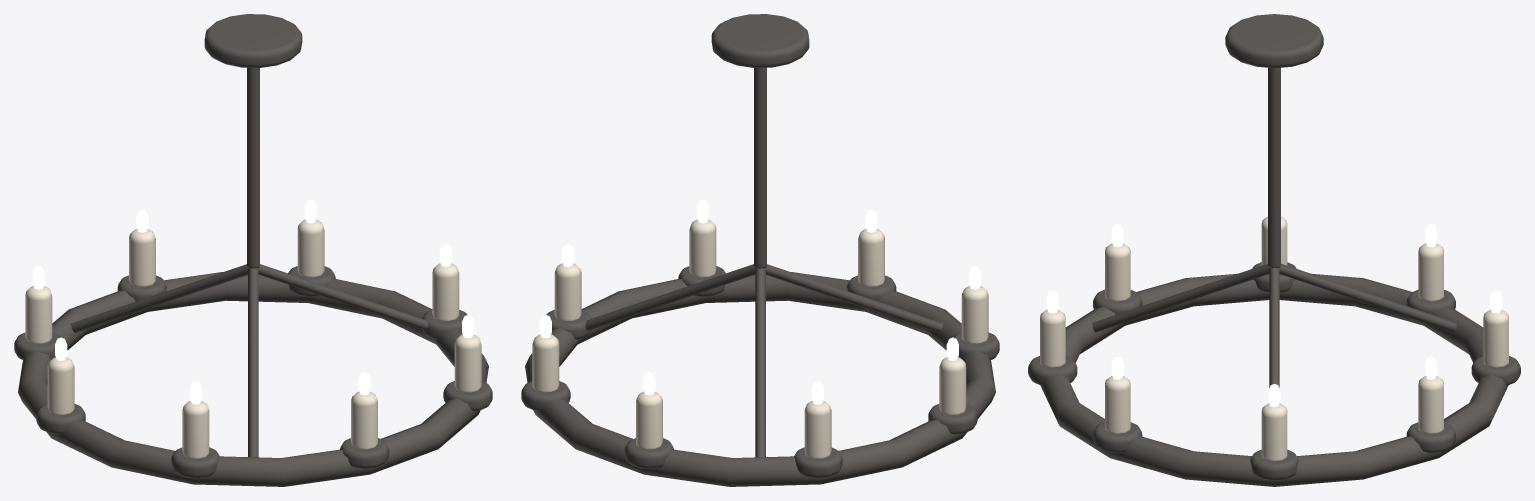
Rendered from candle_ring_chandelier.glb.
The picture shows the model from 3 angles, left to right: view 1: azimuth 30°, elevation 25°; view 2: azimuth 150°, elevation 25°; view 3: azimuth 270°, elevation 25°; orthographic projection.
Visible parts, largest first — view 1: candle_ring_chandelier_mesh; view 2: candle_ring_chandelier_mesh; view 3: candle_ring_chandelier_mesh.
Part boxes in pixels (x1,y1,x2,y2): candle_ring_chandelier_mesh: (14, 14, 492, 486); candle_ring_chandelier_mesh: (521, 14, 999, 486); candle_ring_chandelier_mesh: (1028, 14, 1520, 486).
Bounding box in the file's own units: 0.8 × 0.645 × 0.8.
